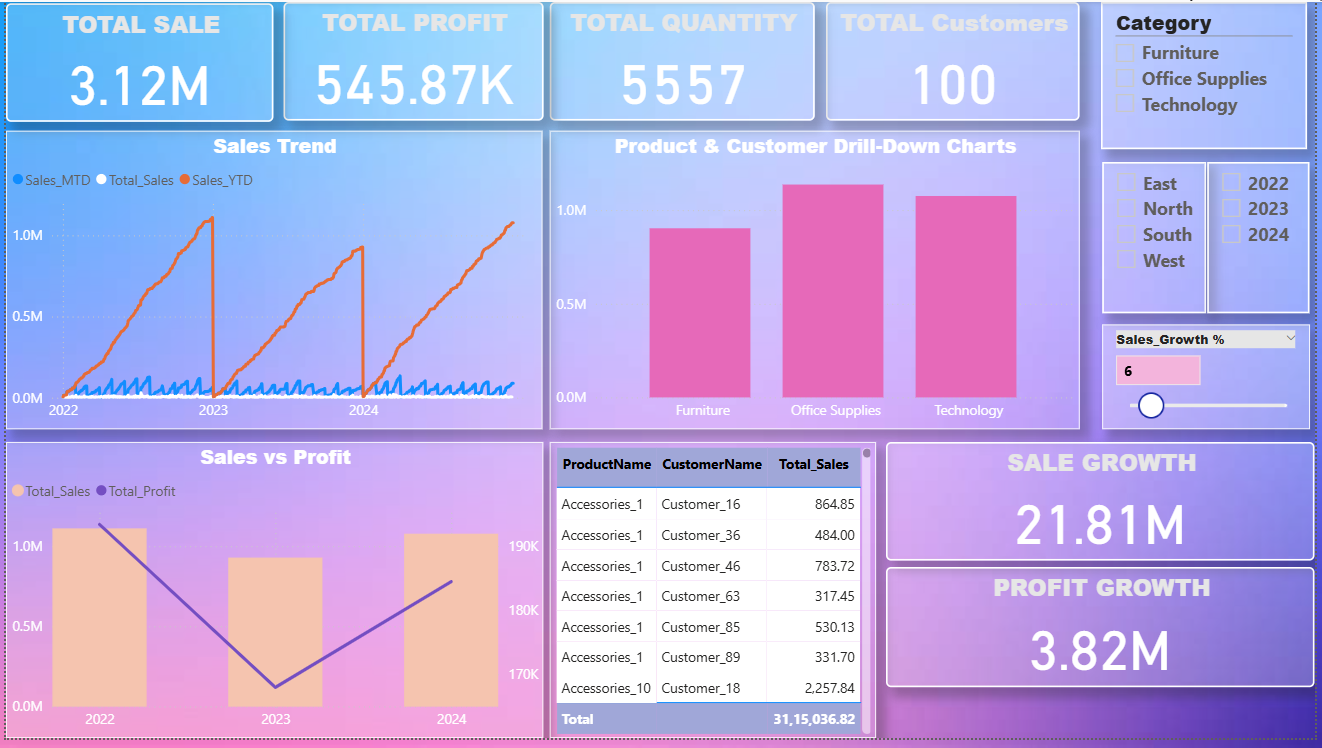

Layout of this report page (visuals, bound fields, positions):
{"tool":"powerbi","page":{"name":"Sales Overview","canvas":[1280,720],"ordinal":0},"visuals":[{"type":"card","title":"TOTAL Customers","fields":{"Values":["Fact_Sales.Total_customers"]},"box":[802.2,0,248.2,116.2],"z":0},{"type":"card","title":"TOTAL QUANTITY","fields":{"Values":["Fact_Sales.Total_Quantity"]},"box":[531.9,0,259.2,116.2],"z":1000},{"type":"card","title":"TOTAL PROFIT","fields":{"Values":["Fact_Sales.Total_Profit"]},"box":[271.5,0,254.3,116.2],"z":2000},{"type":"card","title":"TOTAL SALE","fields":{"Values":["Fact_Sales.Total_Sales"]},"box":[0,1.2,261.7,116.2],"z":3000},{"type":"lineChart","title":"Sales Trend","fields":{"Y":["Fact_Sales.Sales_MTD","Fact_Sales.Total_Sales","Fact_Sales.Sales_YTD"],"Category":["Dim_Date.Date Hierarchy.Date","Dim_Date.Date Hierarchy.MonthNumber","Dim_Date.Date Hierarchy.Quarter","Dim_Date.Date Hierarchy.Year"]},"box":[0,126,524.6,292.3],"z":4000},{"type":"clusteredColumnChart","title":"Product & Customer Drill-Down Charts","fields":{"Y":["Fact_Sales.Total_Sales"],"Category":["Dim_Products.Category Hierarchy.Category","Dim_Products.Category Hierarchy.SubCategory","Dim_Products.Category Hierarchy.ProductName"]},"box":[531.9,126,518.5,292.3],"z":5000},{"type":"slicer","fields":{"Values":["Dim_Products.Category"]},"box":[1071.2,0,201.8,144.3],"z":6000},{"type":"slicer","fields":{"Values":["Dim_Customers.Region"]},"box":[1072.4,156.5,101.5,148],"z":7000},{"type":"slicer","fields":{"Values":["Dim_Date.Year"]},"box":[1175.1,156.5,100.3,148],"z":8000},{"type":"lineStackedColumnComboChart","title":"Sales vs Profit","fields":{"Category":["Dim_Date.Date Hierarchy.Date","Dim_Date.Date Hierarchy.MonthNumber","Dim_Date.Date Hierarchy.Quarter","Dim_Date.Date Hierarchy.Year"],"Y":["Fact_Sales.Total_Sales"],"Y2":["Fact_Sales.Total_Profit"]},"box":[0,430.4,525.8,289.8],"z":9000},{"type":"tableEx","title":"Sales vs Profit","fields":{"Values":["Dim_Products.ProductName","Dim_Customers.CustomerName","Fact_Sales.Total_Sales"]},"box":[531.9,430.4,319.2,289.8],"z":10000},{"type":"slicer","fields":{"Values":["Sales_Growth %.Sales_Growth %"]},"box":[1072.4,315.5,203,102.7],"z":11000},{"type":"card","title":"SALE GROWTH","fields":{"Values":["Fact_Sales.Sales (What-If)"]},"box":[860.9,430.4,419.4,116.2],"z":12000},{"type":"card","title":"PROFIT GROWTH","fields":{"Values":["Fact_Sales.Profit (What-If)"]},"box":[860.9,552.7,419.4,117.4],"z":14000}]}

Visuals, with their boxes in screenshot pixels (x1, y1, x2, y2), scaled from the page's 1280x720 canvas onto the 1322x748 screenshot:
"TOTAL Customers" card: rect(829, 0, 1085, 121)
"TOTAL QUANTITY" card: rect(549, 0, 817, 121)
"TOTAL PROFIT" card: rect(280, 0, 543, 121)
"TOTAL SALE" card: rect(0, 1, 270, 122)
"Sales Trend" lineChart: rect(0, 131, 542, 435)
"Product & Customer Drill-Down Charts" clusteredColumnChart: rect(549, 131, 1085, 435)
slicer - Dim_Products.Category: rect(1106, 0, 1315, 150)
slicer - Dim_Customers.Region: rect(1108, 163, 1212, 316)
slicer - Dim_Date.Year: rect(1214, 163, 1317, 316)
"Sales vs Profit" lineStackedColumnComboChart: rect(0, 447, 543, 747)
"Sales vs Profit" tableEx: rect(549, 447, 879, 747)
slicer - Sales_Growth %.Sales_Growth %: rect(1108, 328, 1317, 434)
"SALE GROWTH" card: rect(889, 447, 1321, 568)
"PROFIT GROWTH" card: rect(889, 574, 1321, 696)
